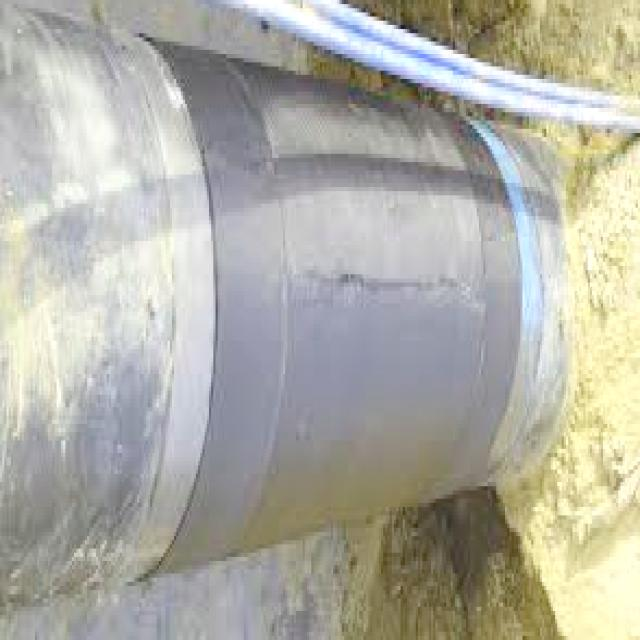gas: (0, 59, 544, 598)
